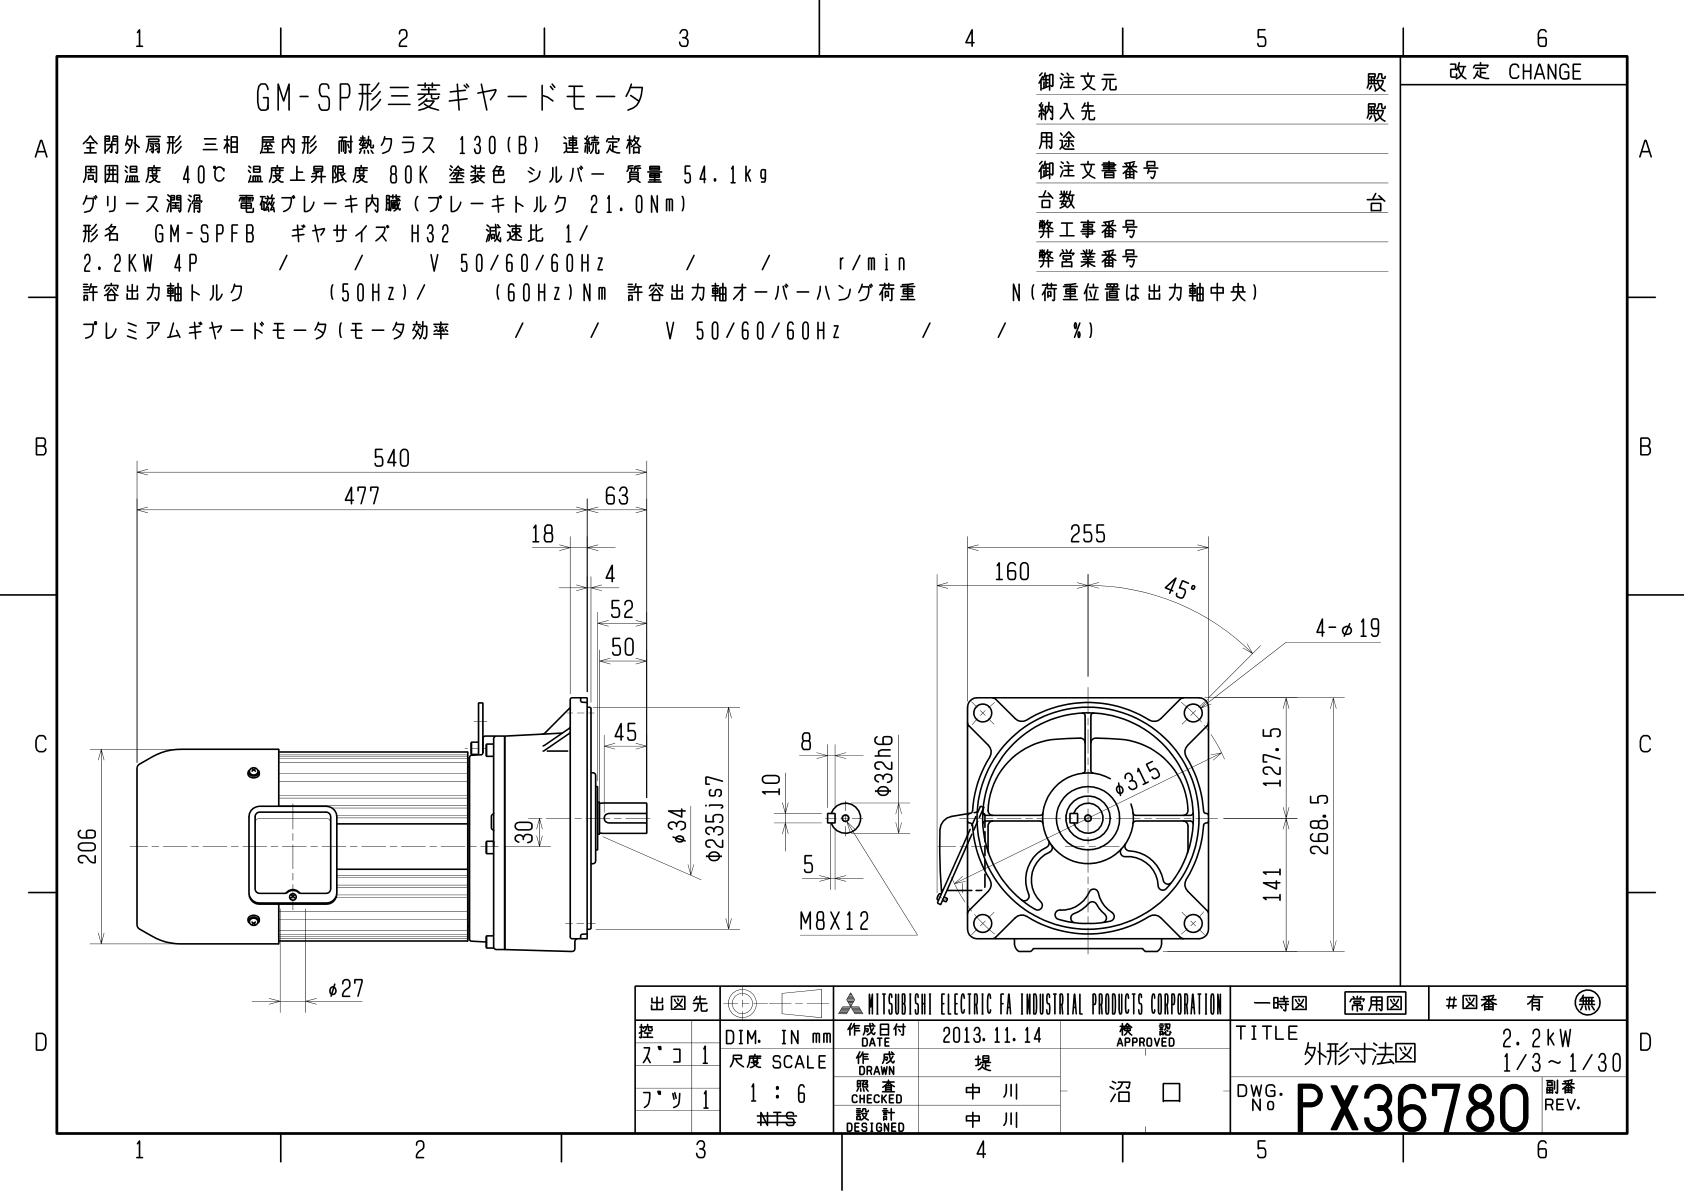GM_SP_屋内_三相_フランジ: (63, 406, 1392, 969)
